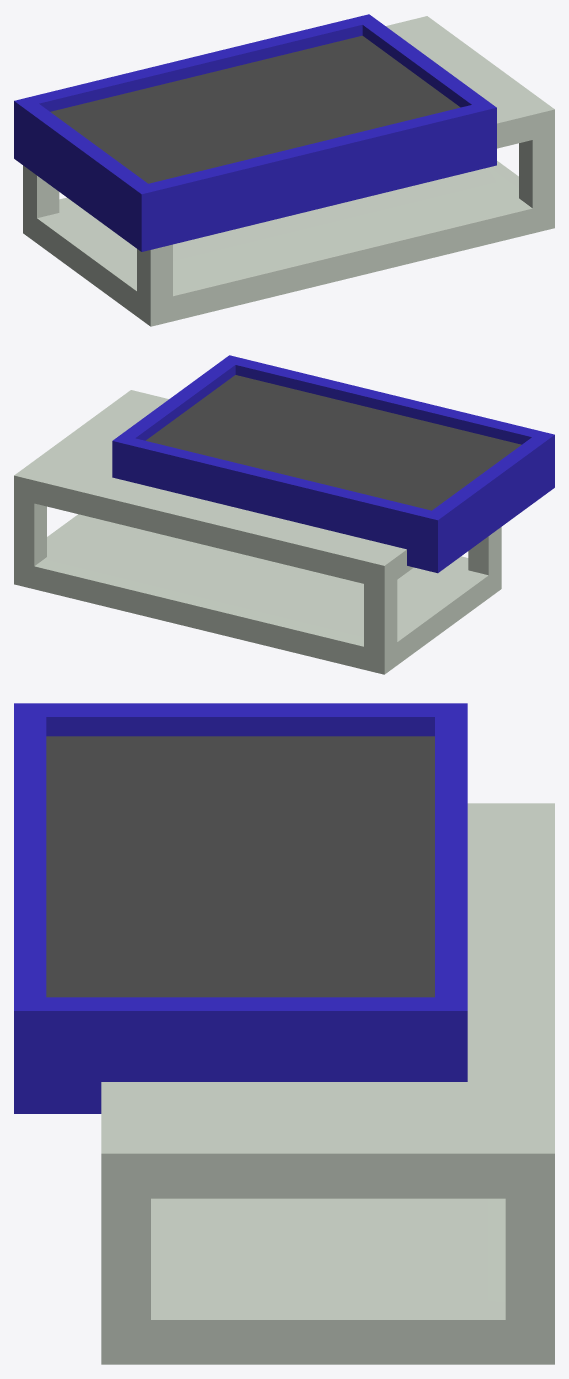
File: Pantalla Suelo.fbx
3 renders of one model, top to bottom at view 1: azimuth 30°, elevation 25°; view 2: azimuth 150°, elevation 25°; view 3: azimuth 270°, elevation 25°, orthographic. The views are drawn at different scales.
Parts seen in each view (by area): view 1: Monitor_mesa_televior, Mesa_Televisor; view 2: Mesa_Televisor, Monitor_mesa_televior; view 3: Monitor_mesa_televior, Mesa_Televisor.
Part boxes in pixels (left/top/right/bottom): Monitor_mesa_televior: left=14, top=14, right=496, bottom=251; Mesa_Televisor: left=23, top=16, right=554, bottom=326; Mesa_Televisor: left=14, top=390, right=501, bottom=674; Monitor_mesa_televior: left=112, top=355, right=554, bottom=573; Monitor_mesa_televior: left=14, top=703, right=467, bottom=1113; Mesa_Televisor: left=101, top=803, right=554, bottom=1364.
Bounding box in the file's own units: 2391 × 828 × 1440.
